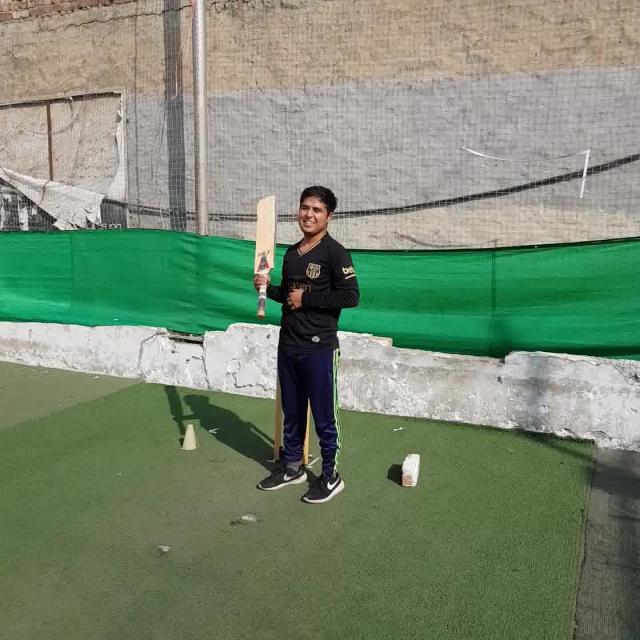bat: (252, 193, 277, 318)
